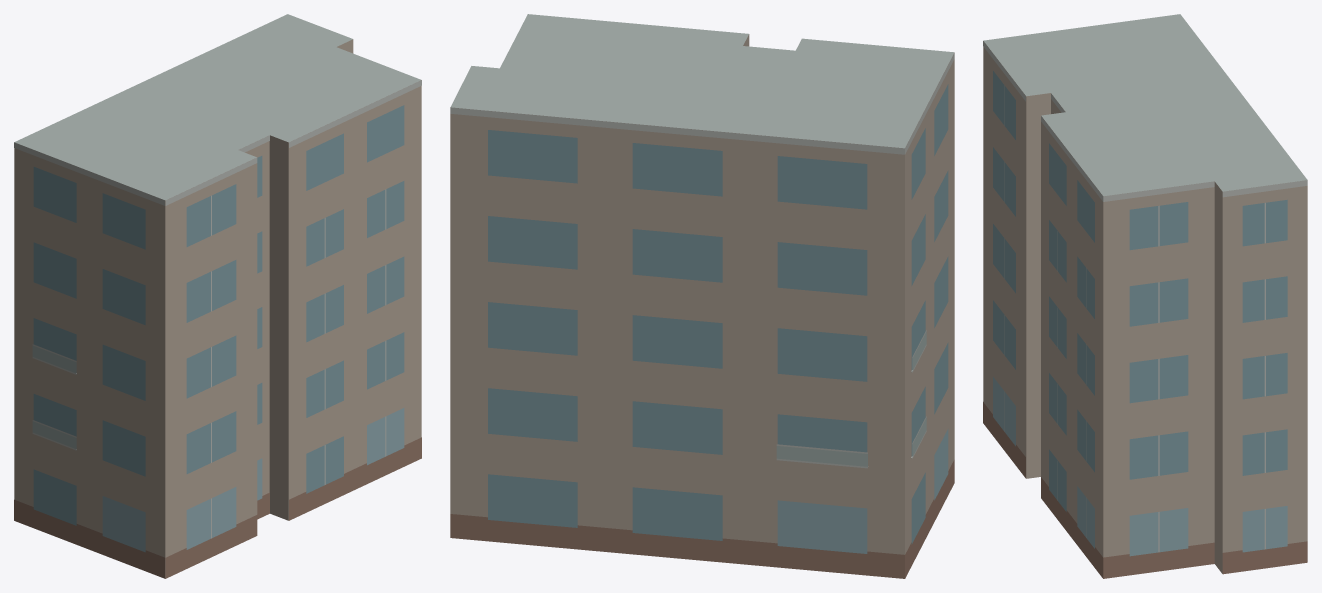
Rendered from survey-upis-32520124.glb.
The picture shows the model from 3 angles, left to right: view 1: azimuth 30°, elevation 25°; view 2: azimuth 150°, elevation 25°; view 3: azimuth 270°, elevation 25°; orthographic projection. The views are drawn at different scales.
Visible parts, largest first — view 1: survey-upis-32520124.tmp; view 2: survey-upis-32520124.tmp; view 3: survey-upis-32520124.tmp.
Part boxes in pixels (x1,y1,x2,y2): survey-upis-32520124.tmp: (14,14,421,578); survey-upis-32520124.tmp: (450,14,954,578); survey-upis-32520124.tmp: (983,14,1307,578).
Bounding box in the file's own units: 16.67 × 16.3 × 12.54.
